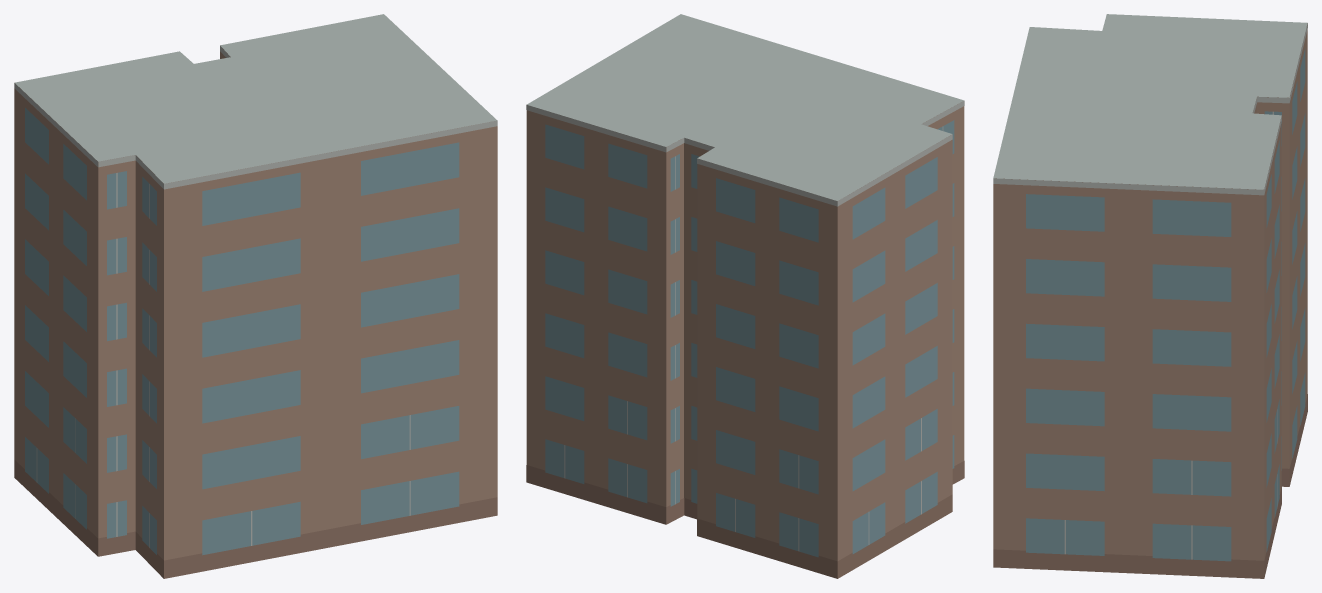
File: survey-upis-32603374.glb
3 renders of one model, left to right at view 1: azimuth 30°, elevation 25°; view 2: azimuth 150°, elevation 25°; view 3: azimuth 270°, elevation 25°, orthographic. The views are drawn at different scales.
Visible parts, largest first — view 1: survey-upis-32603374.tmp; view 2: survey-upis-32603374.tmp; view 3: survey-upis-32603374.tmp.
Part boxes in pixels (x1,y1,x2,y2): survey-upis-32603374.tmp: (14,14,497,578); survey-upis-32603374.tmp: (526,14,964,578); survey-upis-32603374.tmp: (993,14,1307,578).
Size of the model in its own units: 16.48 by 17 by 12.46.
